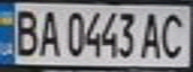0: (63, 7, 84, 57)
3: (118, 8, 142, 59)
4: (81, 7, 103, 57), (100, 8, 121, 59)
A: (139, 9, 166, 60), (36, 6, 63, 57)
B: (9, 5, 42, 57)
C: (157, 9, 190, 60)
